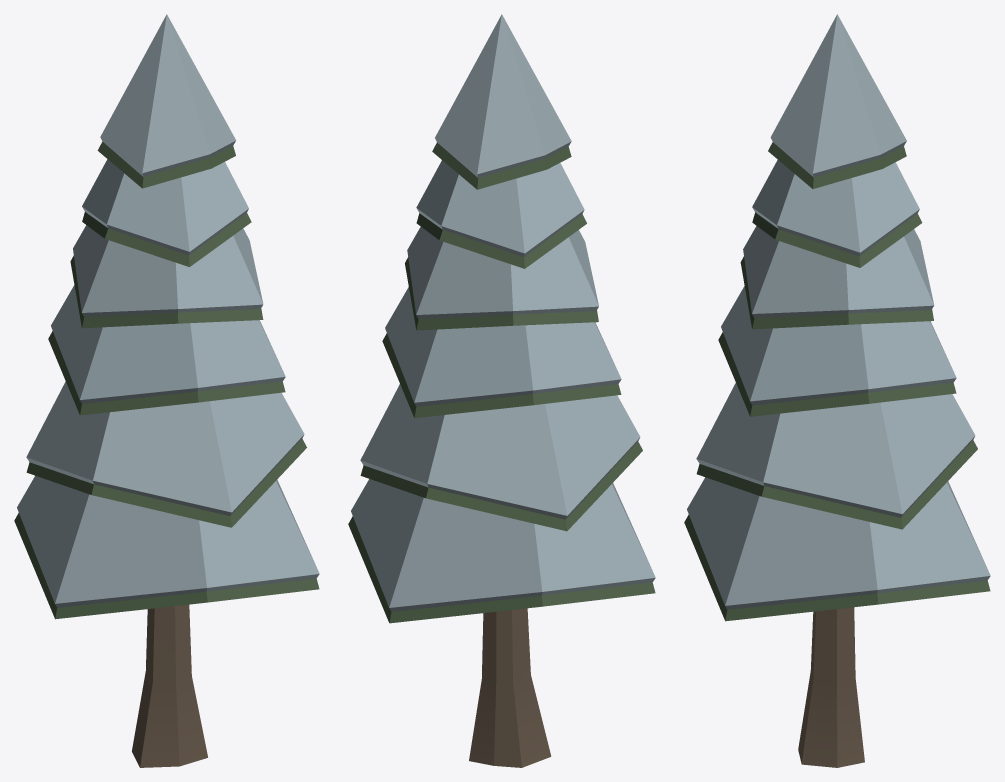
File: Geo_PineLarge.fbx
3 views of the same model, side by side, from view 1: azimuth 30°, elevation 25°; view 2: azimuth 150°, elevation 25°; view 3: azimuth 270°, elevation 25° (orthographic).
Parts seen in each view (by area): view 1: PineTreeLarge_Mesh; view 2: PineTreeLarge_Mesh; view 3: PineTreeLarge_Mesh.
Part boxes in pixels (left/top/right/bottom): PineTreeLarge_Mesh: left=14, top=14, right=319, bottom=767; PineTreeLarge_Mesh: left=348, top=14, right=655, bottom=767; PineTreeLarge_Mesh: left=684, top=14, right=990, bottom=767.
Bounding box in the file's own units: 435 × 1157 × 435.
